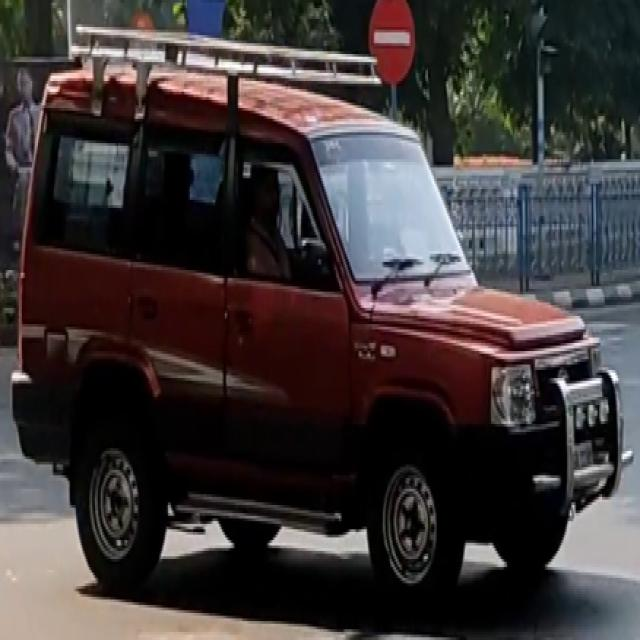car: (13, 60, 626, 608)
